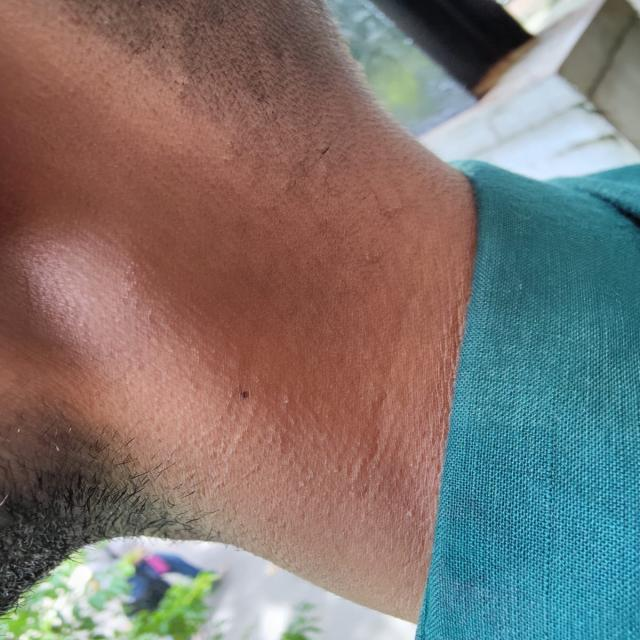Healthy: (0, 0, 470, 619)
